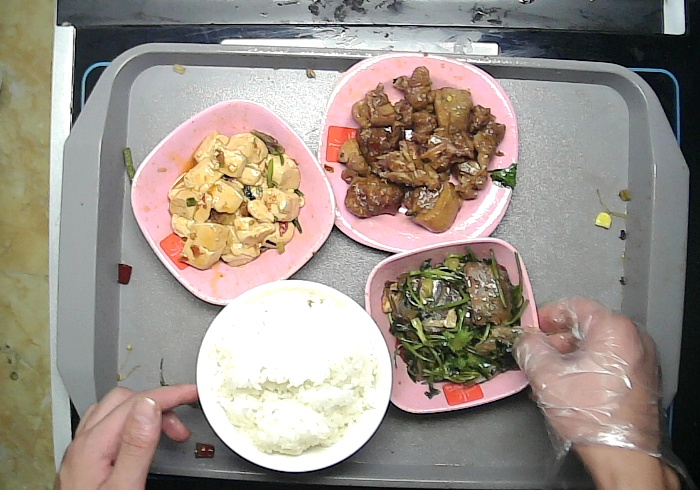SHKJ-Fan_Wan: (196, 279, 391, 473)
SHKJ-Fen_Se_Cai_Die: (130, 99, 335, 305)
SHKJ-Fen_Se_Si_Fang_Cai_Die: (316, 52, 519, 256)
SHKJ-Fen_Se_Xiao_Fang_Die: (363, 238, 538, 414)
